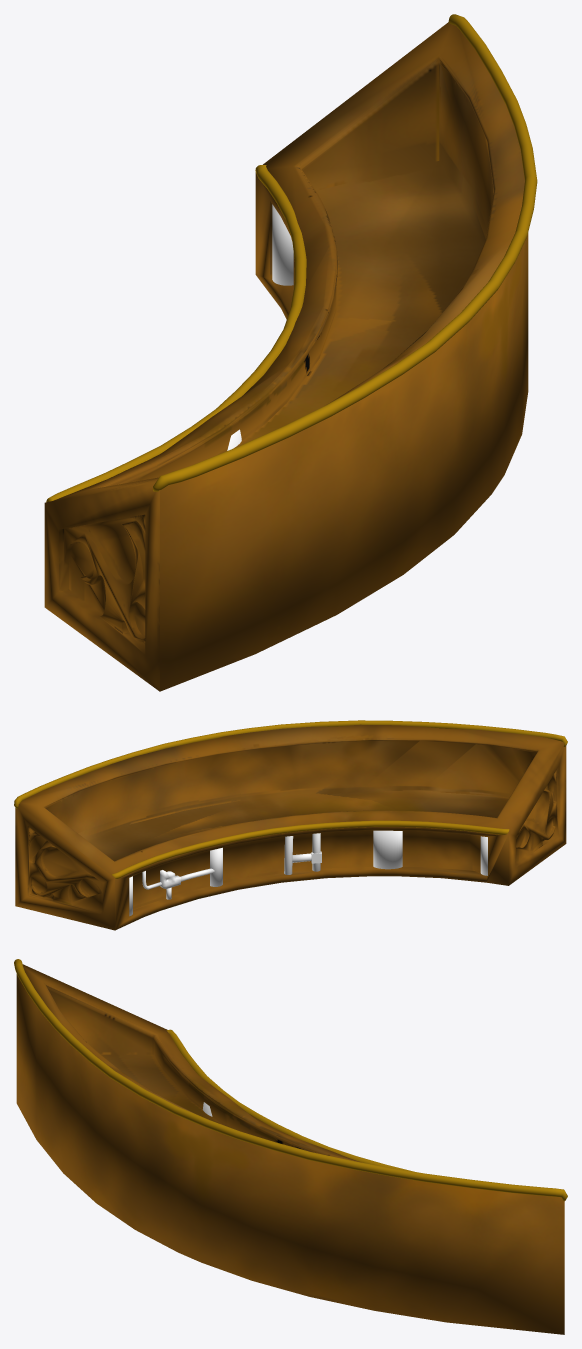
The model's file is Metalsheet typewriter case 3.0.glb.
3 renders of one model, top to bottom at view 1: azimuth 30°, elevation 25°; view 2: azimuth 150°, elevation 25°; view 3: azimuth 270°, elevation 25°, orthographic. The views are drawn at different scales.
Parts seen in each view (by area): view 1: Keysspace 2.0 stl, Circle.007, Circle.006, Circle; view 2: Keysspace 2.0 stl, Circle.007, Circle.006, Circle.008, Cube.003, Circle.002, Circle.005, Circle.001; view 3: Keysspace 2.0 stl, Circle.007, Circle.006.
Part boxes in pixels (bbox=[...]): Keysspace 2.0 stl: bbox=[44, 22, 528, 691]; Circle.007: bbox=[153, 14, 537, 491]; Circle.006: bbox=[46, 165, 306, 502]; Circle: bbox=[272, 204, 293, 285]; Keysspace 2.0 stl: bbox=[15, 724, 566, 930]; Circle.007: bbox=[14, 720, 567, 808]; Circle.006: bbox=[112, 820, 509, 878]; Circle.008: bbox=[373, 830, 402, 869]; Cube.003: bbox=[142, 868, 214, 899]; Circle.002: bbox=[210, 847, 222, 886]; Circle.005: bbox=[284, 836, 293, 874]; Circle.001: bbox=[480, 836, 487, 875]; Keysspace 2.0 stl: bbox=[16, 964, 564, 1334]; Circle.007: bbox=[14, 959, 567, 1200]; Circle.006: bbox=[166, 1029, 413, 1171].
Size of the model in its own units: 52.73 by 15.29 by 52.68.
Materials: 3 (1 with a texture image).
